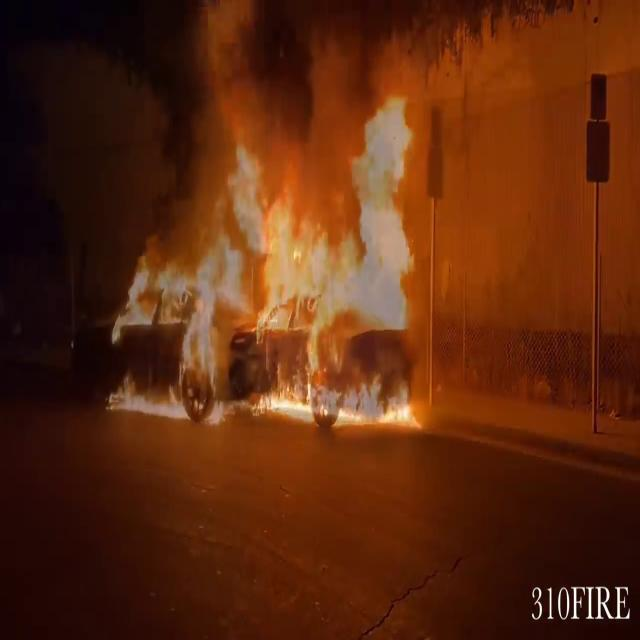Fire: (98, 92, 434, 432)
